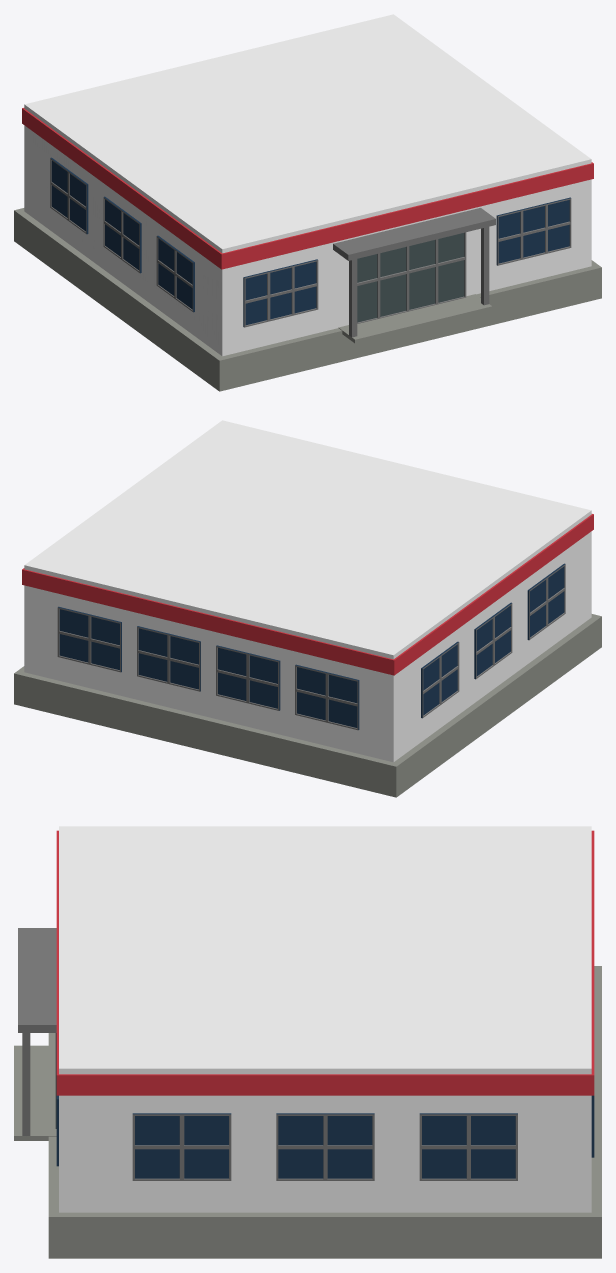
File: mashup-main-base-prebuilt_close.fbx
3 renders of one model, top to bottom at view 1: azimuth 30°, elevation 25°; view 2: azimuth 150°, elevation 25°; view 3: azimuth 270°, elevation 25°, orthographic. The views are drawn at different scales.
Visible parts, largest first — view 1: a1052.MainBase.001; view 2: a1052.MainBase.001; view 3: a1052.MainBase.001.
Part boxes in pixels (box(x1,y1,x2,y2)): a1052.MainBase.001: box(14, 14, 601, 391); a1052.MainBase.001: box(14, 420, 601, 797); a1052.MainBase.001: box(14, 826, 601, 1258).
Bounding box in the file's own units: 14.5 × 5 × 14.35.
